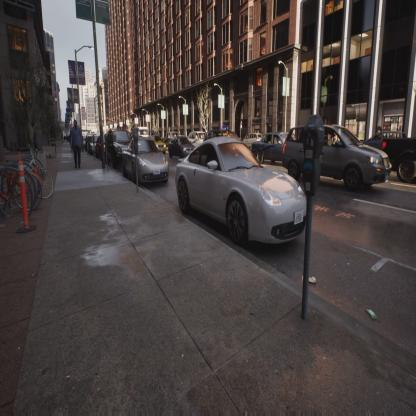License-Plate: (293, 208, 305, 228), (152, 167, 162, 178)
